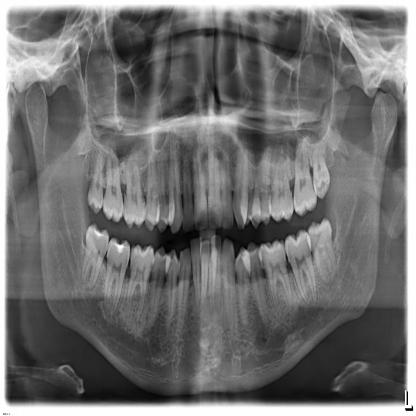canine: (175, 247, 192, 344), (221, 236, 236, 340), (233, 134, 248, 232), (170, 131, 184, 234)
central incisor: (193, 144, 209, 229), (208, 145, 222, 230), (199, 240, 209, 314), (210, 238, 218, 308)
lateral incisor: (221, 147, 234, 229), (182, 153, 195, 231), (190, 237, 201, 315), (212, 236, 222, 311)
mandible: (24, 83, 398, 395)
maxilla: (82, 125, 336, 238)
molar: (259, 239, 293, 319), (285, 229, 317, 305), (125, 245, 155, 325), (104, 237, 130, 317), (80, 224, 109, 290), (308, 217, 336, 284), (293, 139, 317, 216), (268, 154, 294, 225), (102, 145, 123, 223), (123, 164, 145, 229), (86, 150, 103, 214), (313, 141, 331, 200)
premolar: (143, 246, 170, 338), (244, 239, 269, 331), (252, 144, 273, 226), (241, 145, 261, 229), (157, 147, 175, 231), (165, 249, 181, 330), (235, 248, 250, 329), (145, 151, 160, 231)
